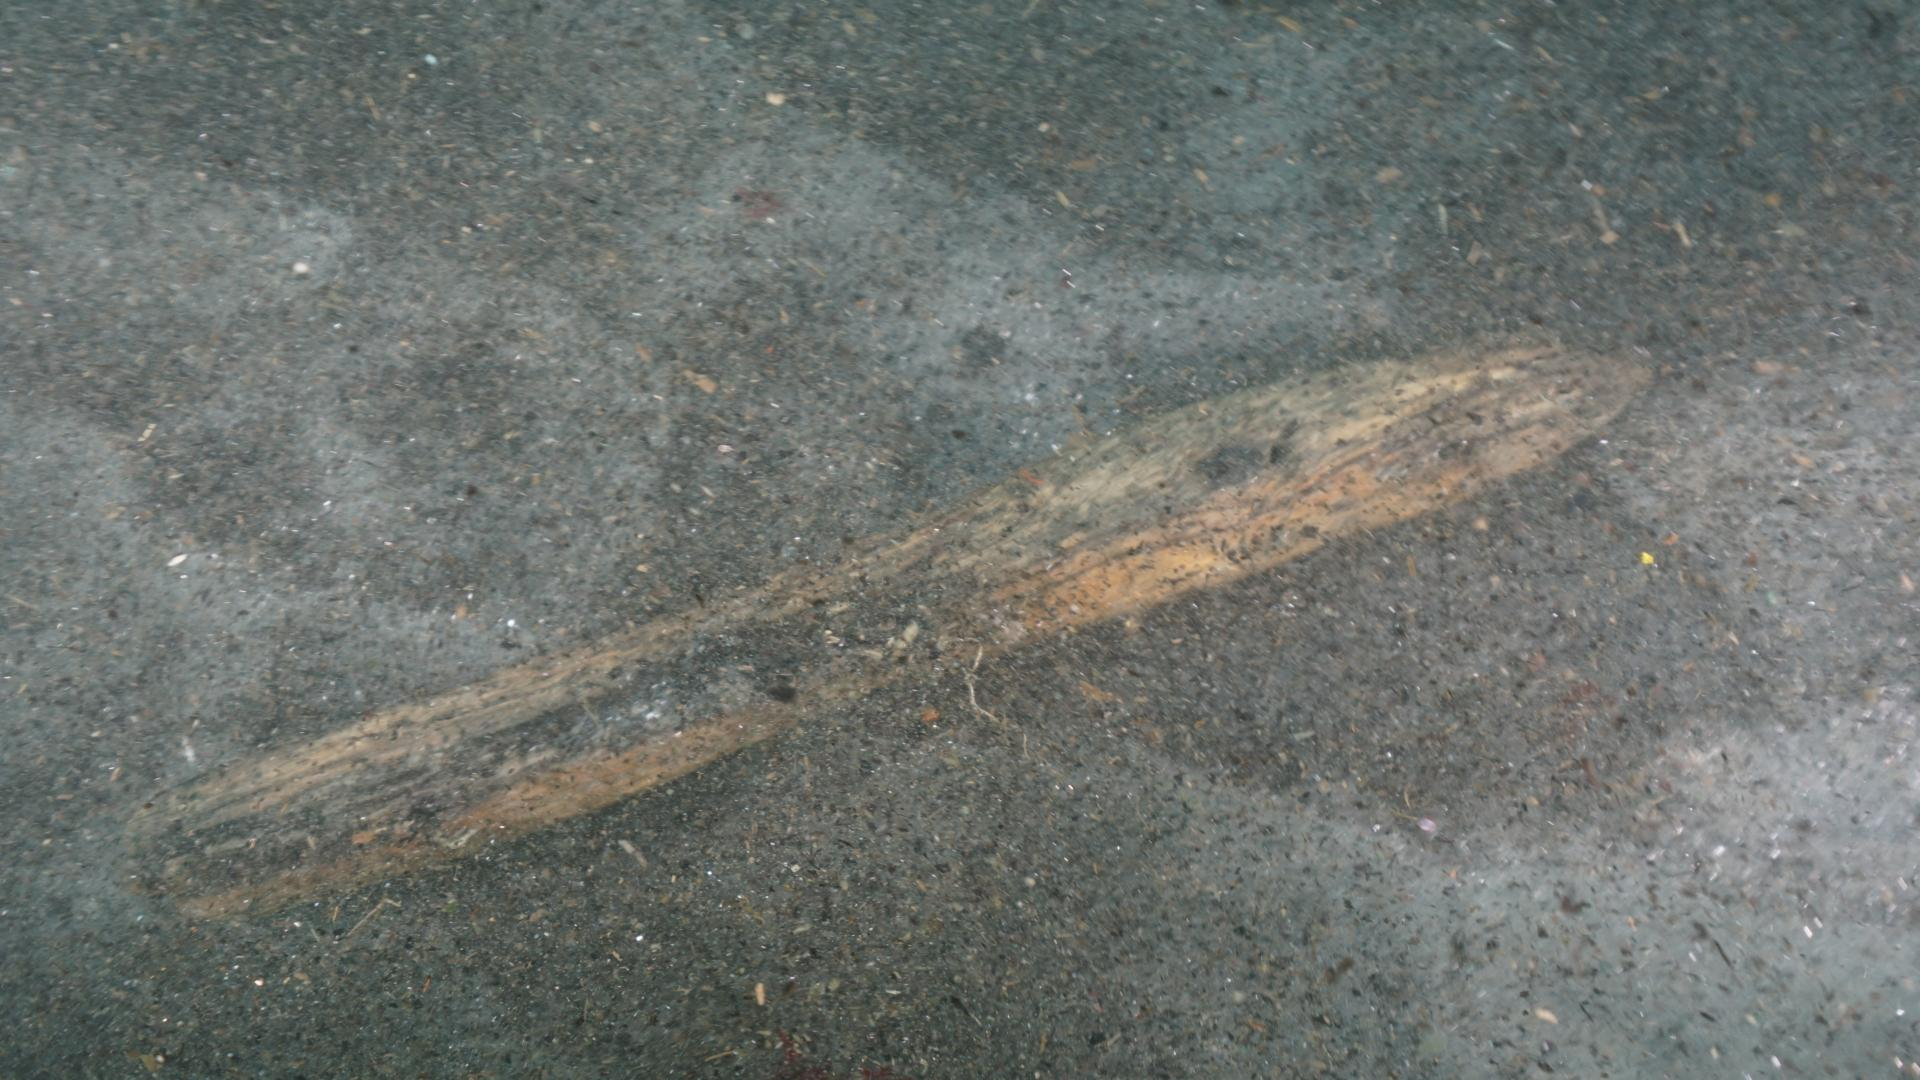wood: (117, 342, 1633, 924)
